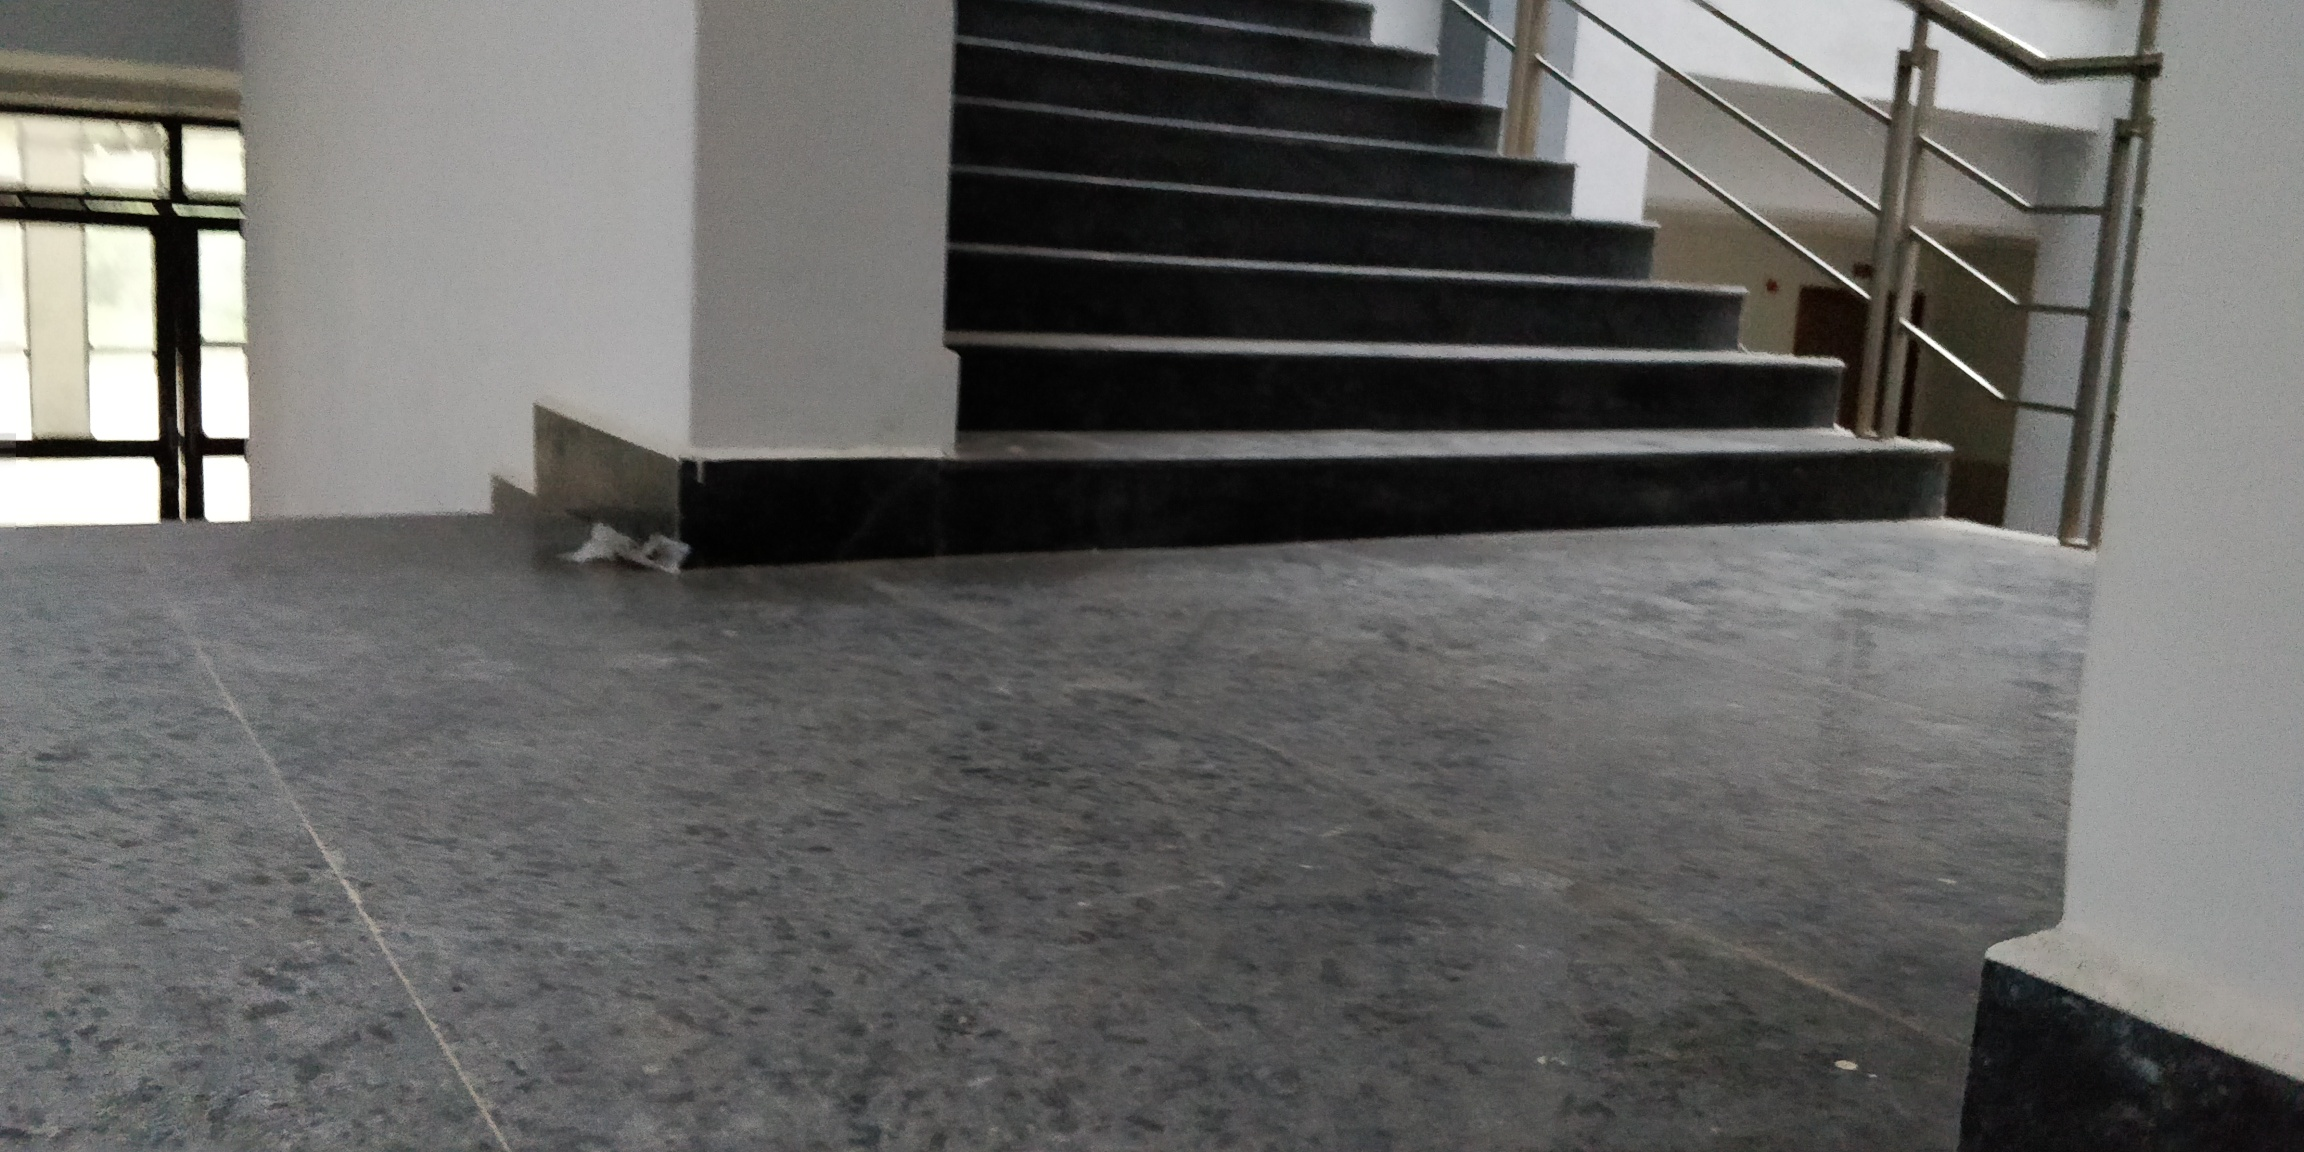stairs_up: (971, 3, 1945, 547)
